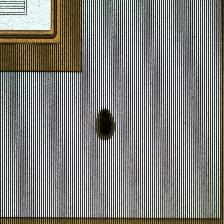PARTICLE: (94, 107, 119, 144)
